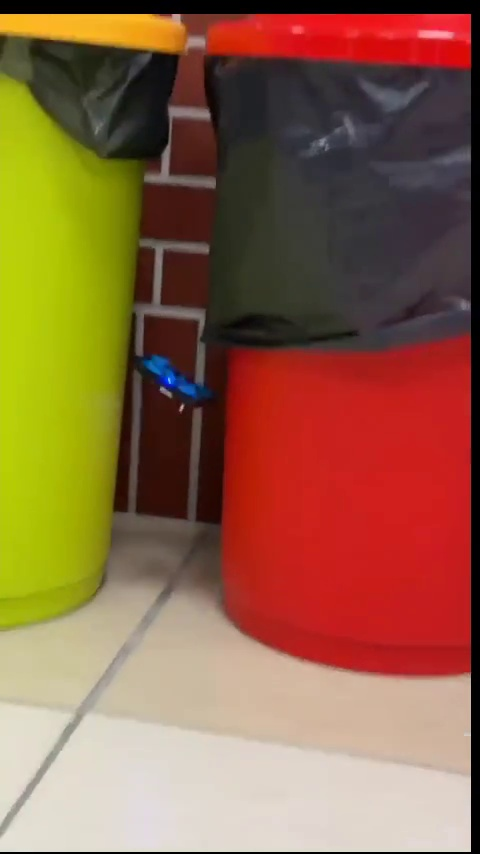drone: (135, 353, 211, 408)
